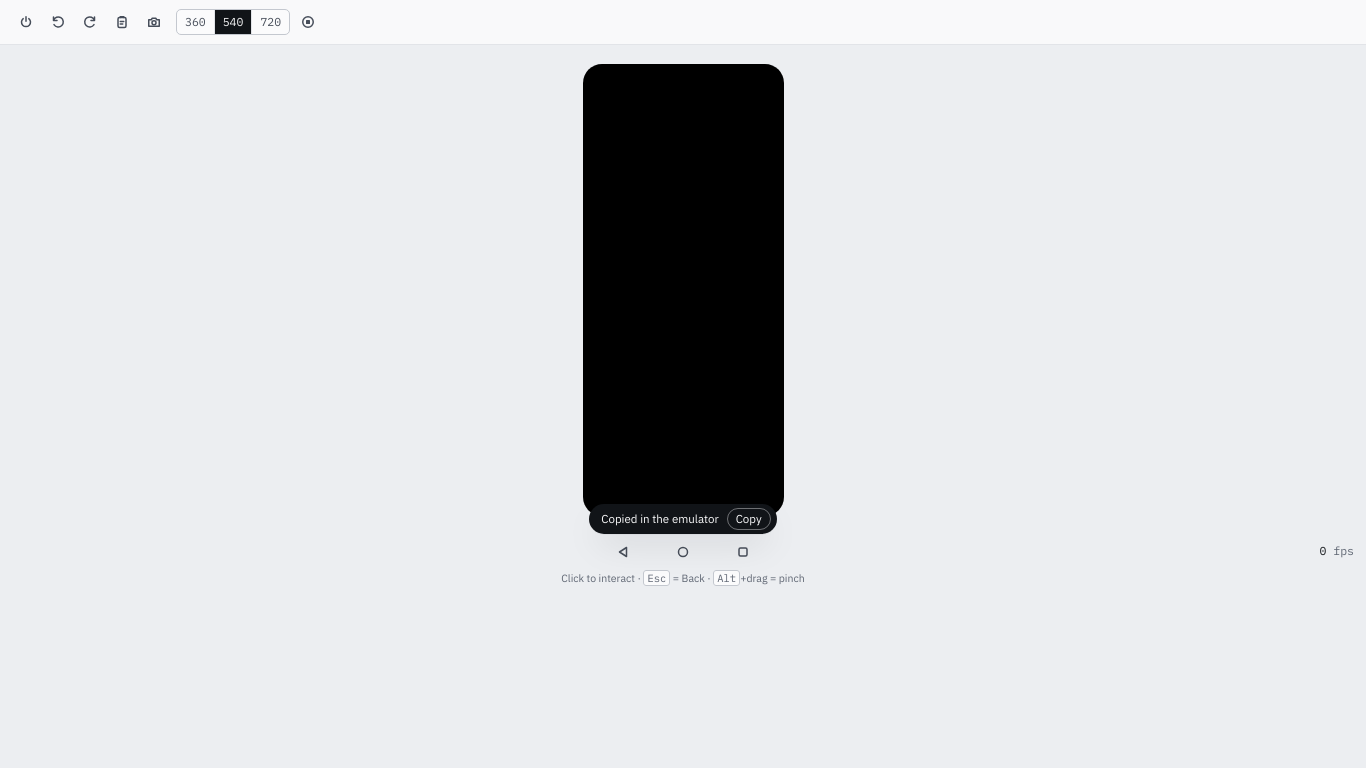
Scenario: Android → desktop › offers a Copy button when the browser refuses, without the text in the page
Expected: the text "Copied in the emulator" is shown, x1=601 y1=511 x2=719 y2=528
What coordinates should you click on to do the following:
click the button "Copy"
I would click on:
 (749, 519)
Its box is x1=727 y1=508 x2=771 y2=530.
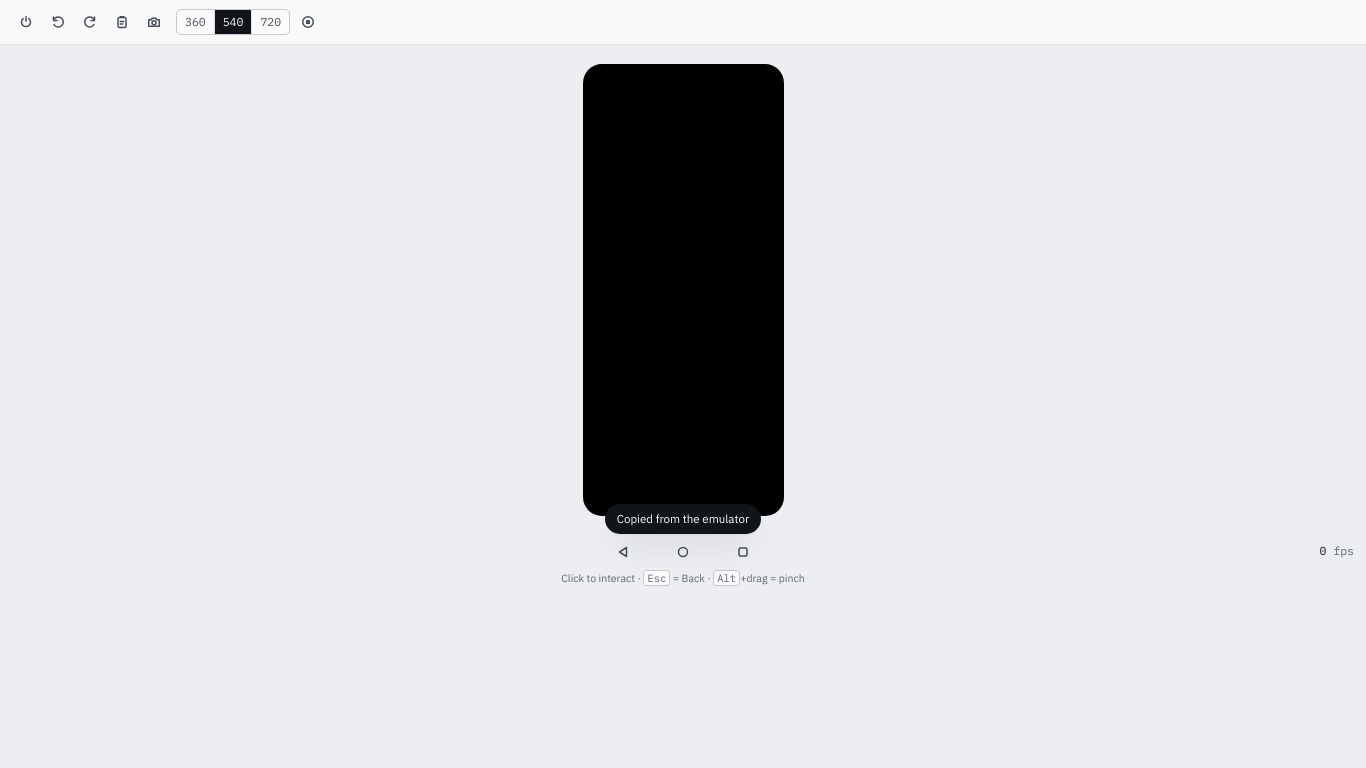
Now the text "Copied from the emulator" is shown, box x1=605 y1=504 x2=761 y2=534
